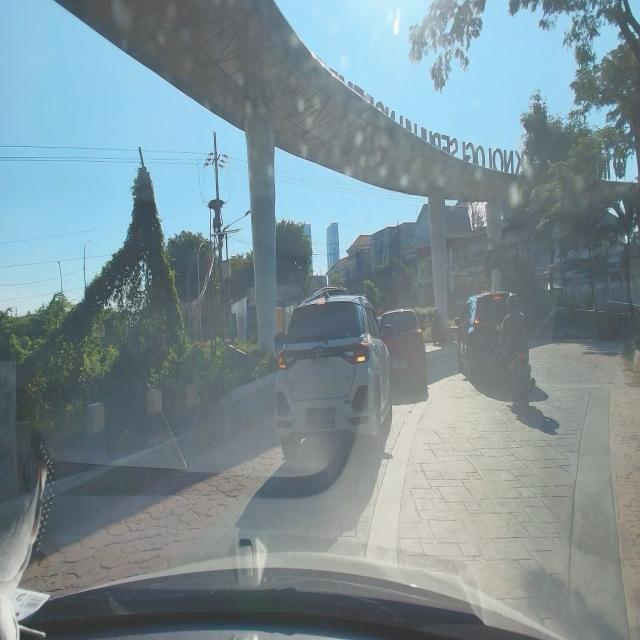car: (270, 292, 395, 463)
